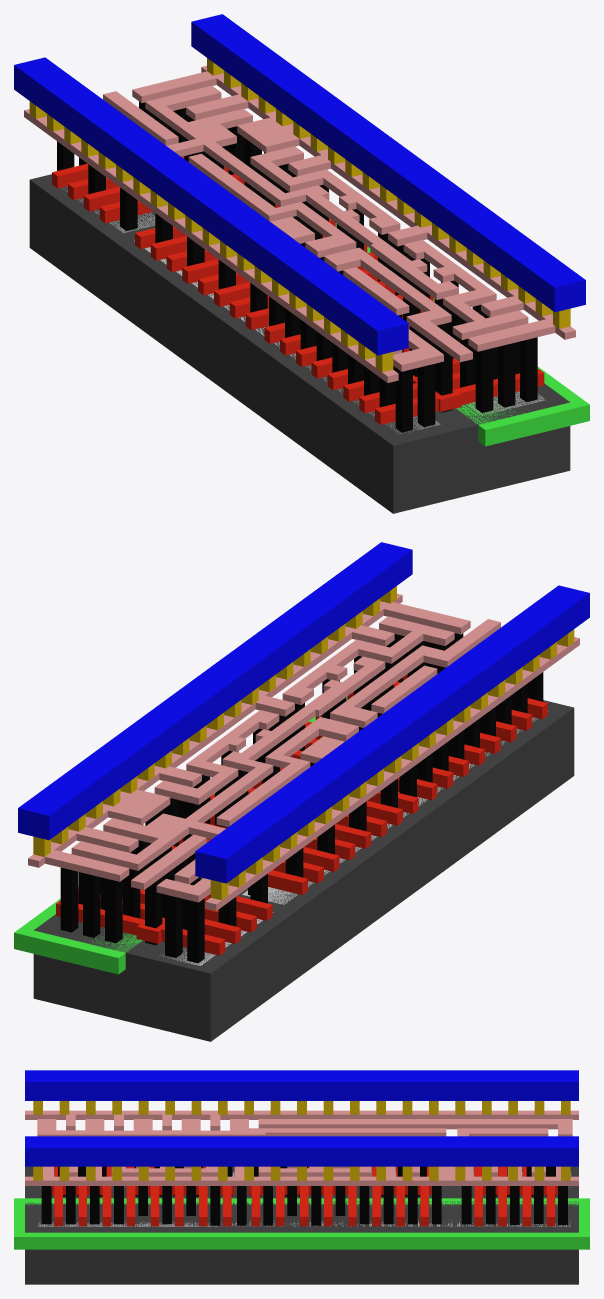
Rendered from sky130_fd_sc_hd__o221ai_4.obj.
3 views of the same model, one above another, from view 1: azimuth 30°, elevation 25°; view 2: azimuth 150°, elevation 25°; view 3: azimuth 270°, elevation 25° (orthographic). The views are drawn at different scales.
Visible parts, largest first — view 1: subs, metal1, li, licon, poly, mcon, nwell, diff; view 2: subs, metal1, li, licon, poly, mcon, nwell, diff; view 3: metal1, subs, li, nwell, licon, poly, mcon, tap.
Boxes of the visible parts, left/top/right/bottom form: subs: left=29, top=174, right=570, bottom=513; metal1: left=14, top=14, right=585, bottom=355; li: left=24, top=65, right=575, bottom=382; licon: left=57, top=101, right=537, bottom=432; poly: left=52, top=156, right=544, bottom=424; mcon: left=29, top=58, right=570, bottom=372; nwell: left=335, top=223, right=589, bottom=446; diff: left=63, top=189, right=440, bottom=433; subs: left=33, top=700, right=574, bottom=1041; metal1: left=18, top=542, right=589, bottom=883; li: left=28, top=593, right=579, bottom=910; licon: left=60, top=633, right=543, bottom=963; poly: left=56, top=674, right=547, bottom=955; mcon: left=33, top=586, right=574, bottom=900; nwell: left=14, top=696, right=347, bottom=974; diff: left=160, top=711, right=548, bottom=965; metal1: left=25, top=1070, right=578, bottom=1166; subs: left=25, top=1166, right=578, bottom=1284; li: left=25, top=1110, right=578, bottom=1185; nwell: left=14, top=1198, right=589, bottom=1249; licon: left=41, top=1166, right=567, bottom=1225; poly: left=52, top=1166, right=557, bottom=1226; mcon: left=33, top=1101, right=570, bottom=1180; tap: left=38, top=1219, right=570, bottom=1226.
Bounding box in the file's own units: 3.2 × 2.74 × 10.04.
